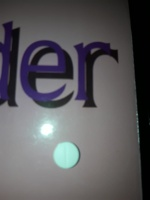Arveles: (52, 140, 81, 170)
